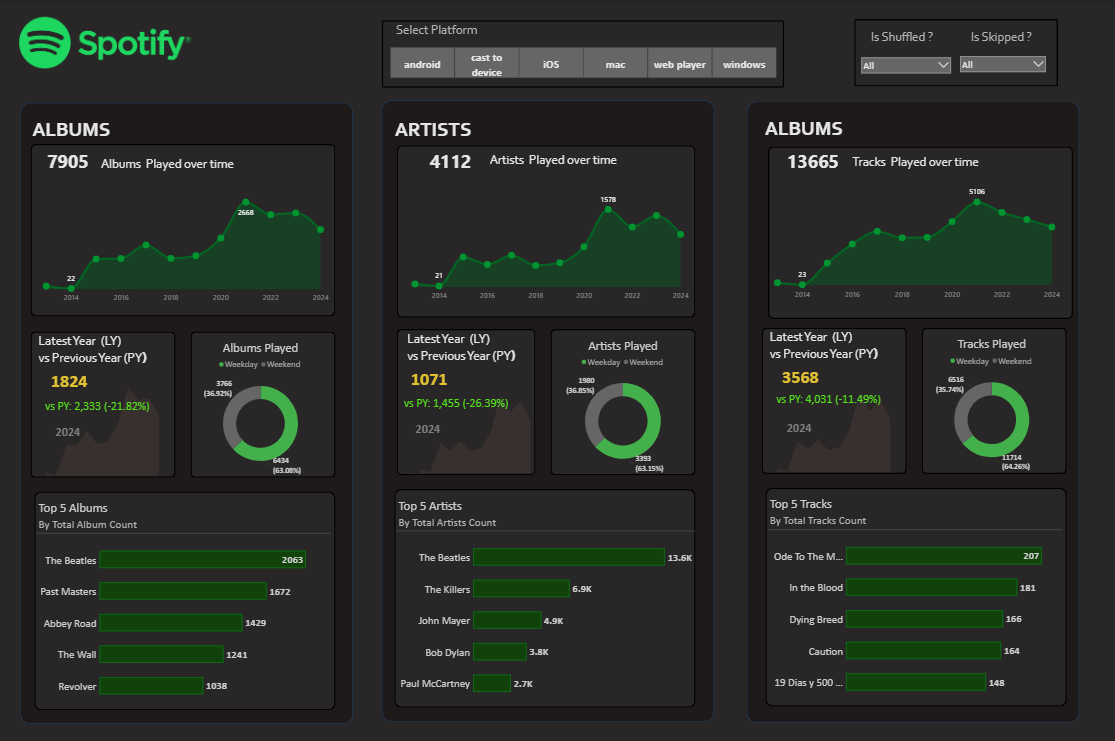

This screenshot's page, from the dashboard's own definition file:
{"tool":"powerbi","page":{"name":"Overview ","canvas":[3300,2200],"ordinal":0},"visuals":[{"type":"shape","box":[1131.7,62.7,1187,199.1],"z":0},{"type":"image","box":[29.5,33.2,575.1,199.1],"z":1000},{"type":"shape","box":[66.4,306,980.6,1832.1],"z":2000},{"type":"textbox","box":[95.8,342.8,258,84.8],"z":3000},{"type":"shape","box":[95.8,427.6,899.5,508.7],"z":4000},{"type":"card","fields":{"Values":["Spotify_history.No of Albums"]},"box":[95.8,427.6,221.2,99.5],"z":5000},{"type":"textbox","box":[298.6,457.1,494,70],"z":6000},{"type":"areaChart","fields":{"Category":["Date Table.Year"],"Y":["Spotify_history.No of Albums"]},"box":[114.3,553,866.3,353.9],"z":7000},{"type":"shape","box":[95.8,980.6,427.6,431.3],"z":8000},{"type":"areaChart","fields":{"Category":["Date Table.Year"],"Y":["Spotify_history.No of Albums"]},"box":[95.8,1098.5,394.4,313.3],"z":9000},{"type":"textbox","box":[114.3,980.6,409.2,143.8],"z":10000},{"type":"card","fields":{"Values":["Spotify_history.Current Year Albums"]},"box":[99.5,1072.7,221.2,99.5],"z":11000},{"type":"card","fields":{"Values":["Spotify_history.PY and YOY Albums KPI"]},"box":[95.8,1150.1,394.4,99.5],"z":12000},{"type":"card","fields":{"Values":["Spotify_history.Max Year"]},"box":[140.1,1223.9,132.7,99.5],"z":13000},{"type":"shape","box":[567.7,980.6,427.6,431.3],"z":14000},{"type":"donutChart","title":"Albums Played","fields":{"Category":["Date Table.Weekday_Weekend"],"Y":["Spotify_history.No of Albums"]},"box":[567.7,1006.4,412.9,405.5],"z":15000},{"type":"shape","box":[106.9,1452.4,888.4,645.1],"z":16000},{"type":"barChart","title":"Top 5 Albums ","fields":{"Category":["Spotify_history.album_name"],"Y":["CountNonNull(Spotify_history.album_name)"]},"box":[114.3,1478.2,866.3,619.3],"z":17000},{"type":"slicer","fields":{"Values":["Spotify_history.platform"]},"box":[1131.7,121.6,1187,110.6],"z":18000},{"type":"shape","box":[1131.7,298.6,980.6,1832.1],"z":19000},{"type":"textbox","box":[1164.9,342.8,258,84.8],"z":20000},{"type":"shape","box":[1175.9,431.3,881,508.7],"z":21000},{"type":"card","fields":{"Values":["Spotify_history.No of  Artists"]},"box":[1223.9,427.6,221.2,99.5],"z":22000},{"type":"textbox","box":[1445,446,490.3,73.7],"z":23000},{"type":"areaChart","fields":{"Category":["Date Table.Year"],"Y":["Spotify_history.No of  Artists"]},"box":[1201.7,545.6,840.5,353.9],"z":24000},{"type":"shape","box":[1175.9,973.2,409.2,431.3],"z":25000},{"type":"areaChart","fields":{"Category":["Date Table.Year"],"Y":["Spotify_history.No of  Artists"]},"box":[1201.7,1091.2,383.4,313.3],"z":26000},{"type":"textbox","box":[1201.7,973.2,387.1,143.8],"z":27000},{"type":"card","fields":{"Values":["Spotify_history.Latest Year Artists"]},"box":[1162.4,1065,221.2,99.5],"z":28000},{"type":"card","fields":{"Values":["Spotify_history.PY and YOY Artists KPI"]},"box":[1168.6,1153.8,364.9,73.7],"z":29000},{"type":"card","fields":{"Values":["Spotify_history.Max Year"]},"box":[1202.9,1216.2,132.7,99.5],"z":30000},{"type":"shape","box":[1630.5,972.9,427.6,431.3],"z":31000},{"type":"donutChart","title":"Artists Played","fields":{"Category":["Date Table.Weekday_Weekend"],"Y":["Spotify_history.No of  Artists"]},"box":[1629.4,999,427.6,405.5],"z":32000},{"type":"shape","box":[1169.7,1444.7,888.4,645.1],"z":33000},{"type":"barChart","title":"Top 5 Artists","fields":{"Category":["Spotify_history.artist_name"],"Y":["CountNonNull(Spotify_history.artist_name)"]},"box":[1175.9,1470.9,881,619.3],"z":34000},{"type":"shape","box":[2209.3,301.2,980.6,1832.1],"z":35000},{"type":"textbox","box":[2257.2,338.1,258,84.8],"z":36000},{"type":"shape","box":[2271,435.2,899.5,508.7],"z":37000},{"type":"card","fields":{"Values":["Spotify_history.No of Tracks"]},"box":[2292.9,427.6,221.2,99.5],"z":38000},{"type":"textbox","box":[2514.1,453.4,494,70],"z":39000},{"type":"areaChart","fields":{"Category":["Date Table.Year"],"Y":["Spotify_history.No of Tracks"]},"box":[2269.4,540.5,866.3,353.9],"z":40000},{"type":"shape","box":[2251,968.1,427.6,431.3],"z":41000},{"type":"areaChart","fields":{"Category":["Date Table.Year"],"Y":["Spotify_history.No of  Artists"]},"box":[2251,1086.1,394.4,313.3],"z":42000},{"type":"textbox","box":[2270.8,969.5,409.2,143.8],"z":43000},{"type":"card","fields":{"Values":["Spotify_history.Latest Year Tracks"]},"box":[2254.7,1060.3,221.2,99.5],"z":44000},{"type":"card","fields":{"Values":["Spotify_history.PY and YOY Traacks KPI"]},"box":[2252.4,1128,394.4,99.5],"z":45000},{"type":"card","fields":{"Values":["Spotify_history.Max Year"]},"box":[2295.2,1211.4,132.7,99.5],"z":46000},{"type":"shape","box":[2722.8,968.1,427.6,431.3],"z":47000},{"type":"donutChart","title":"Tracks Played","fields":{"Category":["Date Table.Weekday_Weekend"],"Y":["Spotify_history.No of Tracks"]},"box":[2722.8,993.9,412.9,405.5],"z":48000},{"type":"shape","box":[2262,1440,888.4,645.1],"z":49000},{"type":"barChart","title":"Top 5 Tracks","fields":{"Category":["Spotify_history.track_name"],"Y":["CountNonNull(Spotify_history.track_name)"]},"box":[2269.4,1465.8,866.3,619.3],"z":50000},{"type":"textbox","box":[1168.6,62.7,364.9,70],"z":51000},{"type":"shape","box":[2525.1,59,600.9,199.1],"z":52000},{"type":"slicer","fields":{"Values":["Spotify_history.shuffle"]},"box":[2536.2,162.2,283.8,73.7],"z":53000},{"type":"slicer","fields":{"Values":["Spotify_history.skipped"]},"box":[2827.4,158.5,272.8,73.7],"z":54000},{"type":"textbox","box":[2562,84.8,258,92.2],"z":55000},{"type":"textbox","box":[2864.3,84.8,235.9,92.2],"z":56000}]}

Visuals, with their boxes in screenshot pixels (x1, y1, x2, y2), scaled from the page's 3300x2200 canvas onto the 1115x741 screenshot:
shape: l=382, t=21, r=783, b=88
image: l=10, t=11, r=204, b=78
shape: l=22, t=103, r=354, b=720
textbox: l=32, t=115, r=120, b=144
shape: l=32, t=144, r=336, b=315
card - Spotify_history.No of Albums: l=32, t=144, r=107, b=178
textbox: l=101, t=154, r=268, b=178
areaChart - Date Table.Year x Spotify_history.No of Albums: l=39, t=186, r=331, b=305
shape: l=32, t=330, r=177, b=476
areaChart - Date Table.Year x Spotify_history.No of Albums: l=32, t=370, r=166, b=476
textbox: l=39, t=330, r=177, b=379
card - Spotify_history.Current Year Albums: l=34, t=361, r=108, b=395
card - Spotify_history.PY and YOY Albums KPI: l=32, t=387, r=166, b=421
card - Spotify_history.Max Year: l=47, t=412, r=92, b=446
shape: l=192, t=330, r=336, b=476
"Albums Played" donutChart: l=192, t=339, r=331, b=476
shape: l=36, t=489, r=336, b=706
"Top 5 Albums " barChart: l=39, t=498, r=331, b=706
slicer - Spotify_history.platform: l=382, t=41, r=783, b=78
shape: l=382, t=101, r=714, b=718
textbox: l=394, t=115, r=481, b=144
shape: l=397, t=145, r=695, b=317
card - Spotify_history.No of  Artists: l=414, t=144, r=488, b=178
textbox: l=488, t=150, r=654, b=175
areaChart - Date Table.Year x Spotify_history.No of  Artists: l=406, t=184, r=690, b=303
shape: l=397, t=328, r=536, b=473
areaChart - Date Table.Year x Spotify_history.No of  Artists: l=406, t=368, r=536, b=473
textbox: l=406, t=328, r=537, b=376
card - Spotify_history.Latest Year Artists: l=393, t=359, r=467, b=392
card - Spotify_history.PY and YOY Artists KPI: l=395, t=389, r=518, b=413
card - Spotify_history.Max Year: l=406, t=410, r=451, b=443
shape: l=551, t=328, r=695, b=473
"Artists Played" donutChart: l=551, t=336, r=695, b=473
shape: l=395, t=487, r=695, b=704
"Top 5 Artists" barChart: l=397, t=495, r=695, b=704
shape: l=746, t=101, r=1078, b=719
textbox: l=763, t=114, r=850, b=142
shape: l=767, t=147, r=1071, b=318
card - Spotify_history.No of Tracks: l=775, t=144, r=849, b=178
textbox: l=849, t=153, r=1016, b=176
areaChart - Date Table.Year x Spotify_history.No of Tracks: l=767, t=182, r=1059, b=301
shape: l=761, t=326, r=905, b=471
areaChart - Date Table.Year x Spotify_history.No of  Artists: l=761, t=366, r=894, b=471
textbox: l=767, t=327, r=906, b=375
card - Spotify_history.Latest Year Tracks: l=762, t=357, r=837, b=391
card - Spotify_history.PY and YOY Traacks KPI: l=761, t=380, r=894, b=413
card - Spotify_history.Max Year: l=775, t=408, r=820, b=442
shape: l=920, t=326, r=1064, b=471
"Tracks Played" donutChart: l=920, t=335, r=1059, b=471
shape: l=764, t=485, r=1064, b=702
"Top 5 Tracks" barChart: l=767, t=494, r=1059, b=702
textbox: l=395, t=21, r=518, b=45
shape: l=853, t=20, r=1056, b=87
slicer - Spotify_history.shuffle: l=857, t=55, r=953, b=79
slicer - Spotify_history.skipped: l=955, t=53, r=1047, b=78
textbox: l=866, t=29, r=953, b=60
textbox: l=968, t=29, r=1047, b=60
